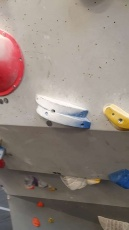Hand Start: (46, 120, 53, 127), (3, 97, 9, 104)
Pinch: (35, 93, 91, 130)
